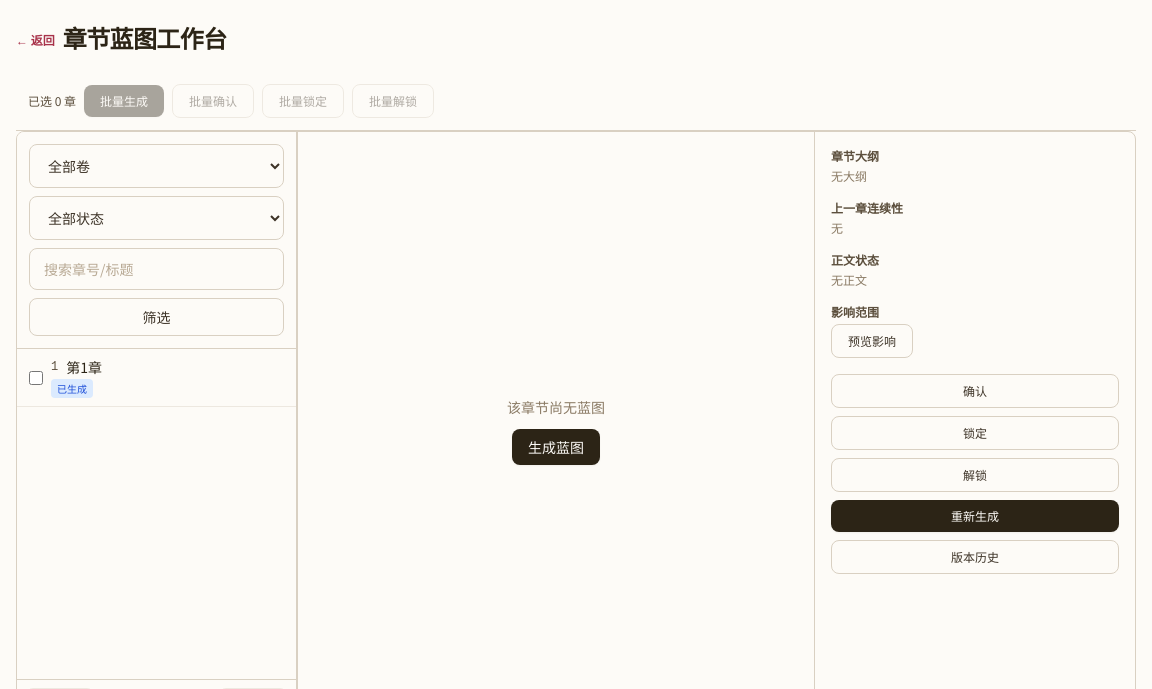
ChapterBlueprintWorkbench › 批量操作后同步当前章节控制状态
Click the list item "1 第1章 已生成": click(156, 378) [17,349,296,407]
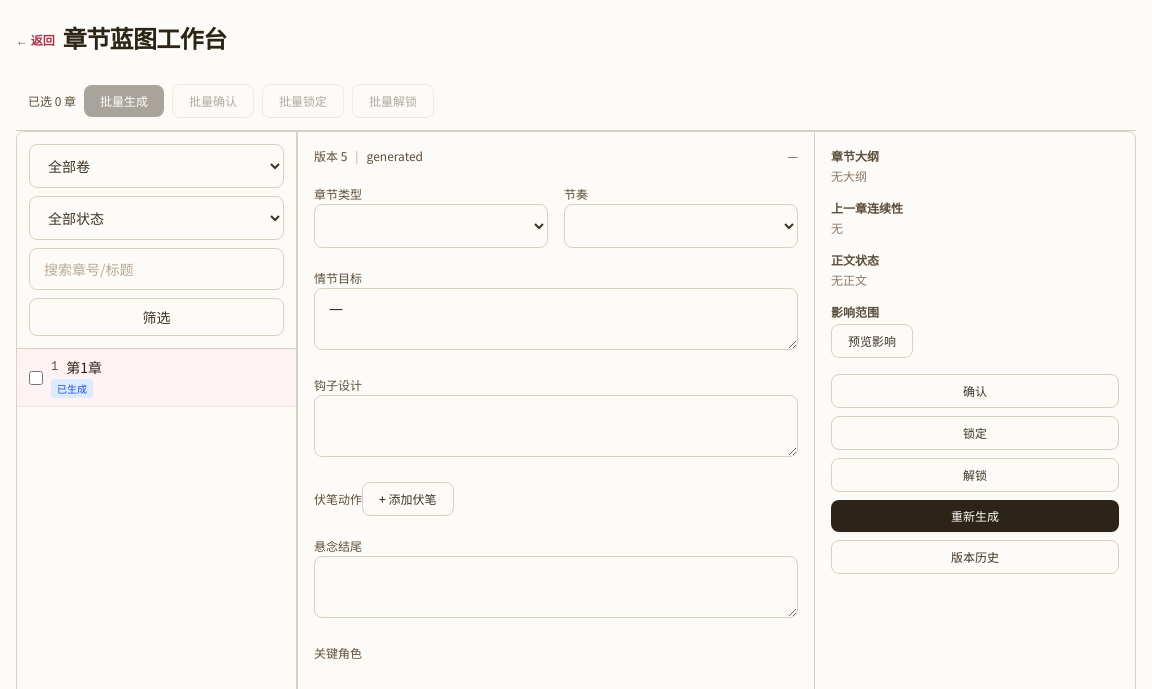
Replace the text in the text box labelled "情节目标" with "未保存修改": (556, 319) [314,288,798,350]
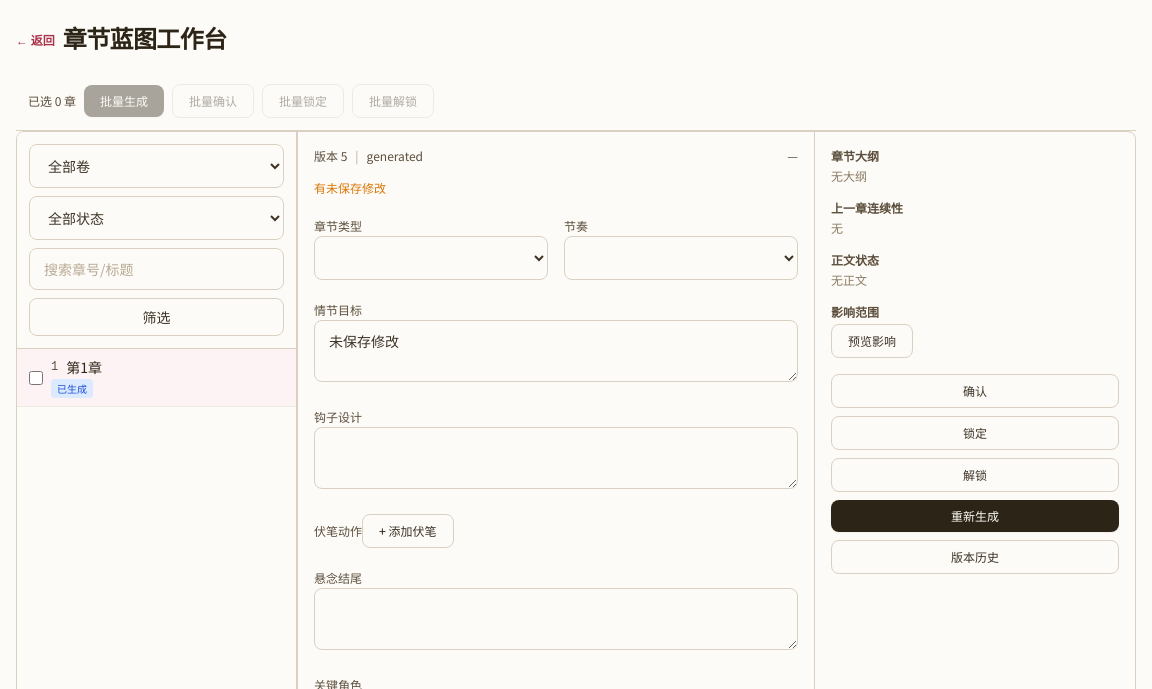
Click the checkbox: click(36, 378) [29,370,43,384]
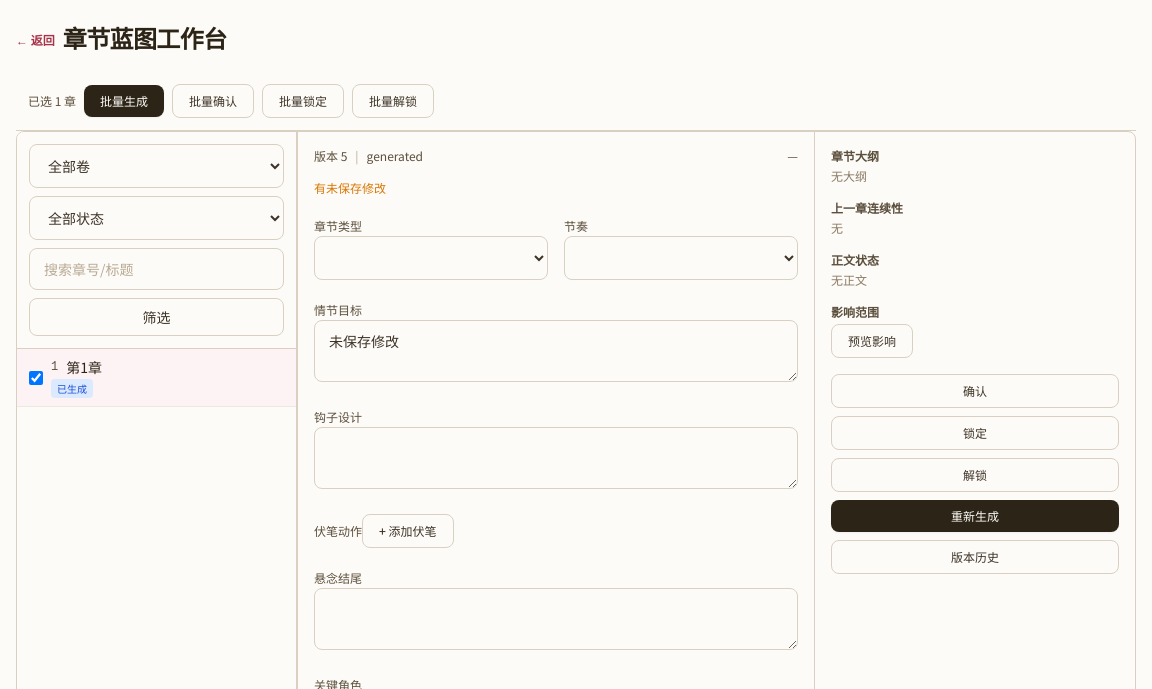
Click the button "批量确认": click(213, 101) [172,84,254,118]
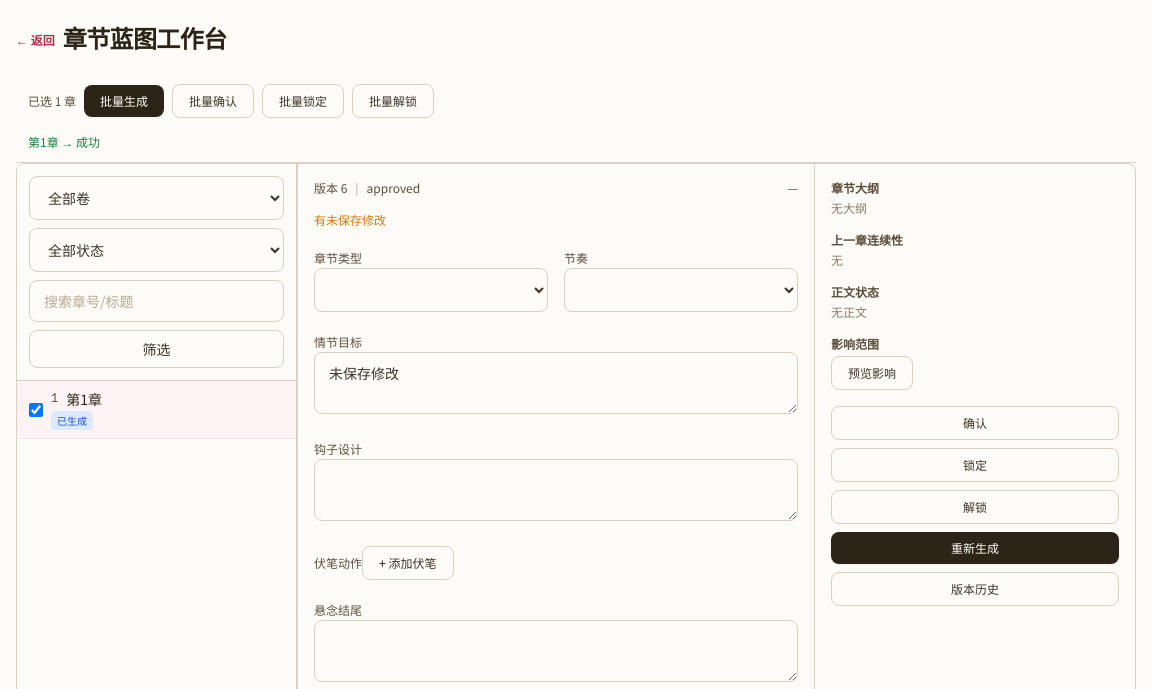
Result: the text "版本 6" is shown at [314,180,347,196]
Result: the text "approved" is shown at [367,180,420,196]
